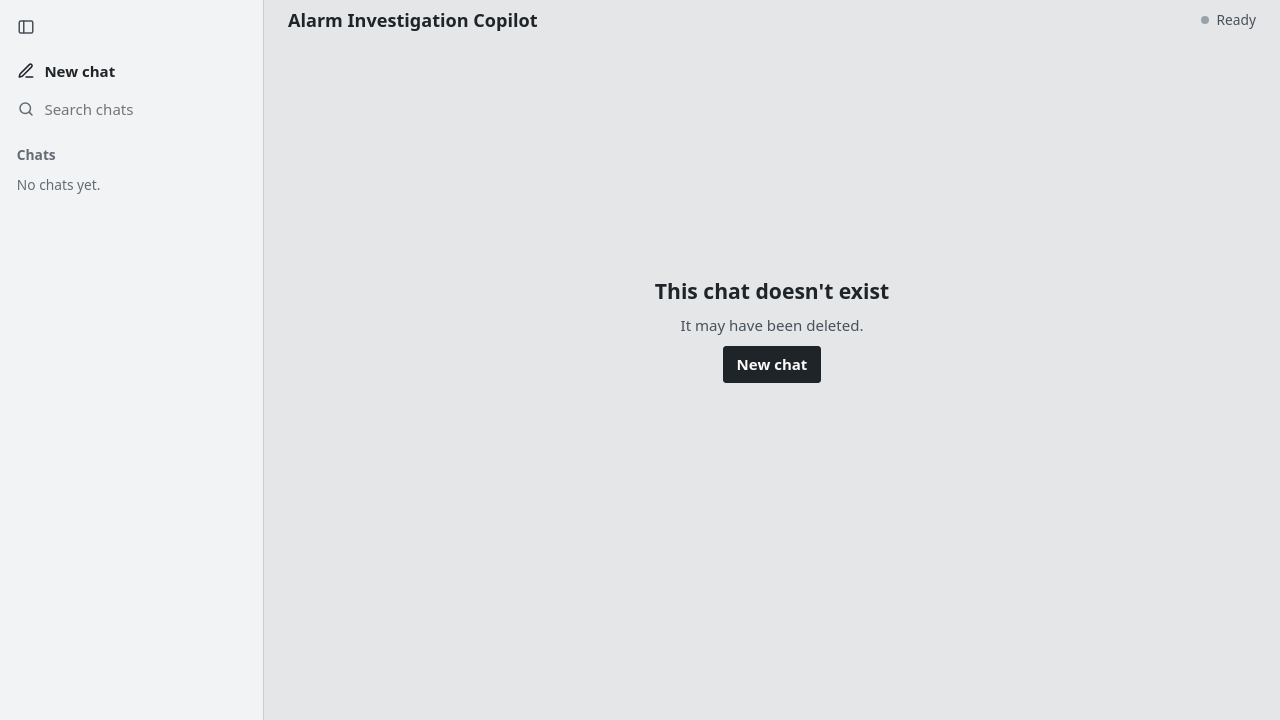
Test: an address for a deleted chat says so and offers a new chat
The image size is (1280, 720).
Expected: the heading "This chat doesn't exist" is shown, [655,278,889,304]
Click the button "New chat" below "It may have been deleted.": coordinates (772, 365) [723,346,821,383]
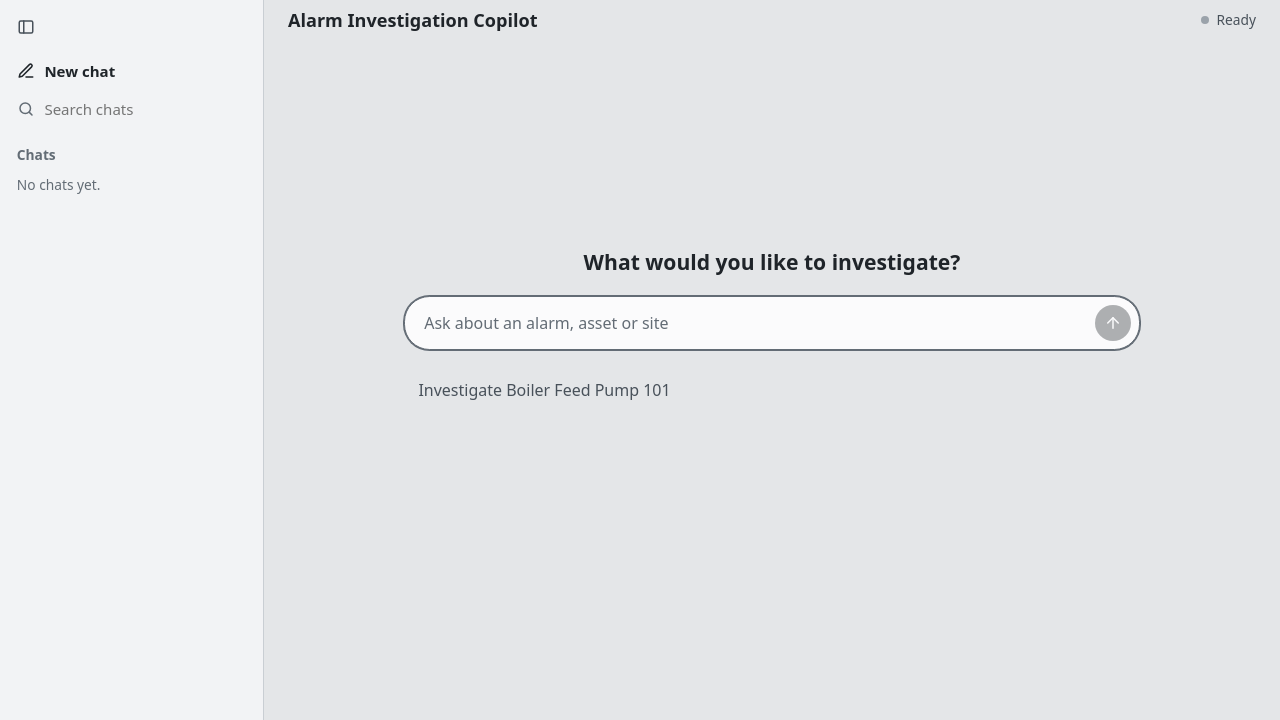
Expected: the heading "What would you like to investigate?" is shown, [584,247,960,276]
